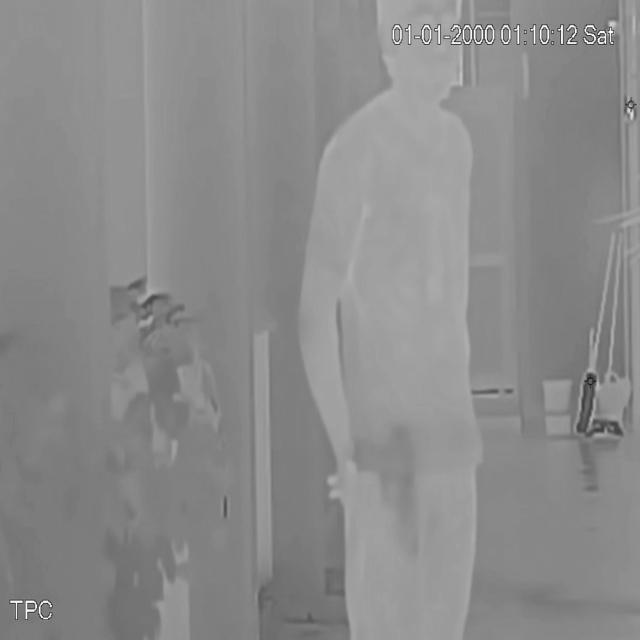Weapon: (352, 422, 437, 563)
